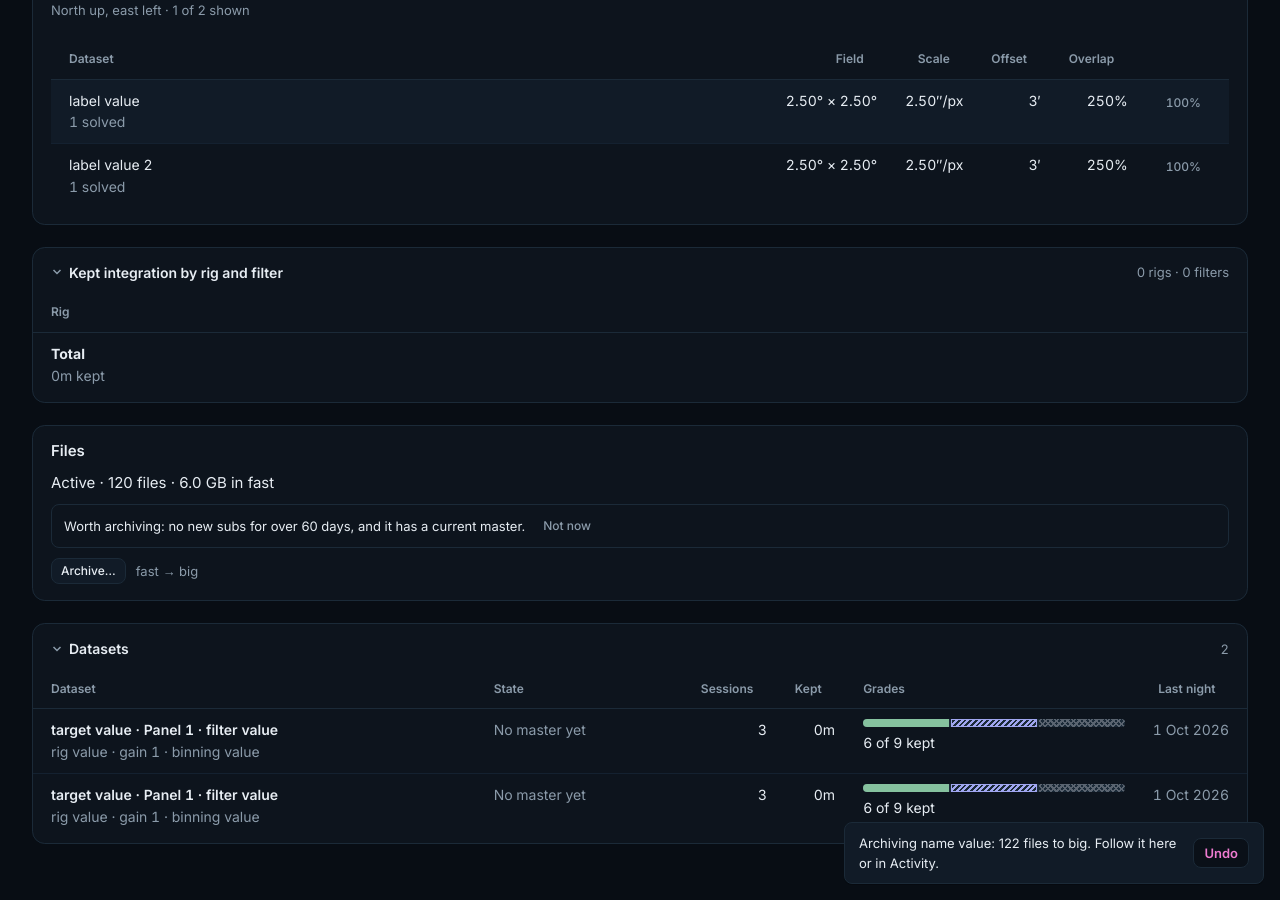
Test: Collection → Files (spec 013) › refuses while a build reads its files, naming it, before anything is tried (013, 2026-10-24)
The width and height of the screenshot is (1280, 900).
(page scrolled)
Expected: the heading "Files" is shown, [51,441,85,460]
Click the button "Archive…" at (88,571), box [51,558,126,584]
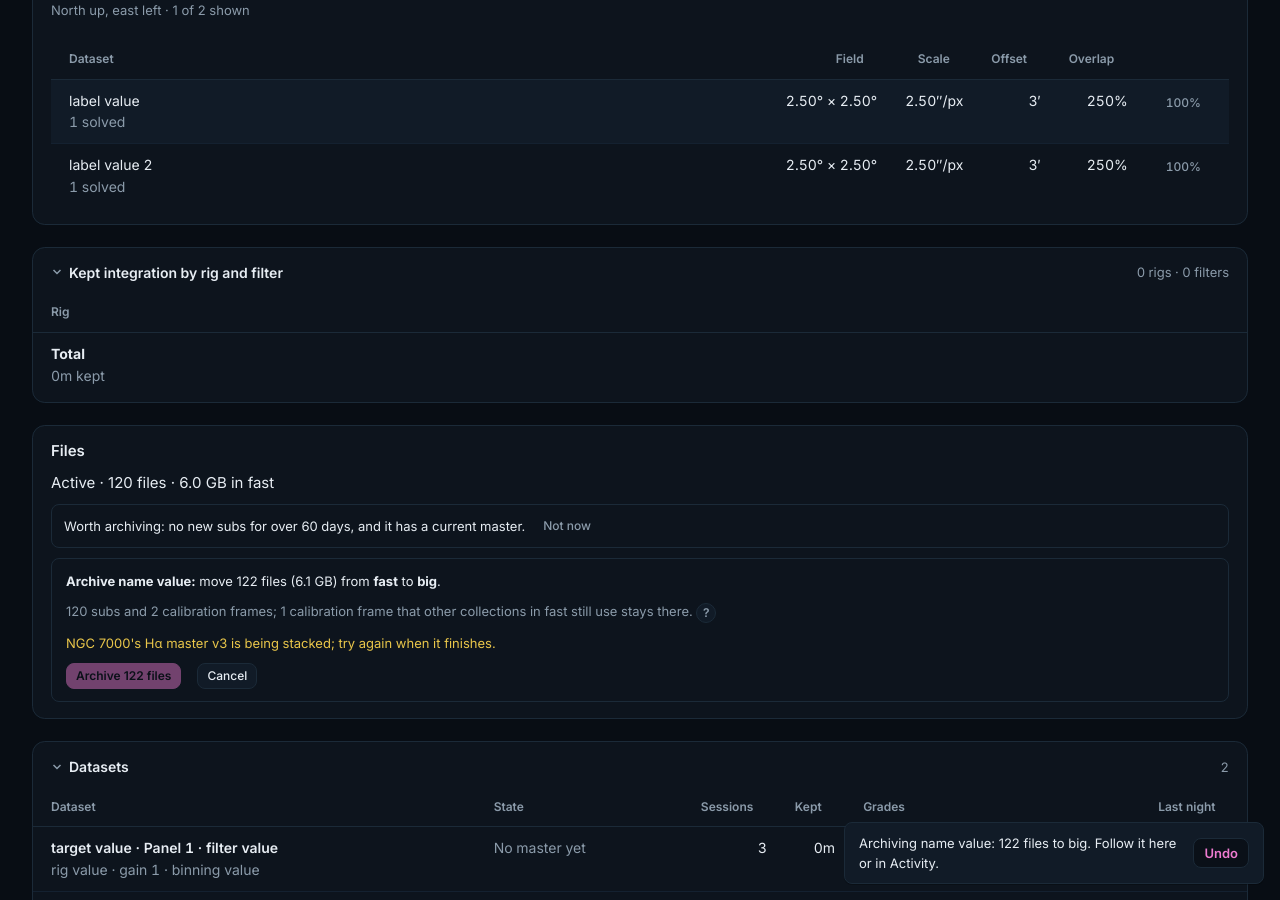
Expected: the message "NGC 7000's Hα master v3 is being stacked; try again when it finishes." is shown, [66,633,558,653]
Expected: the button "Archive 122 files" is disabled, [66,663,181,689]
